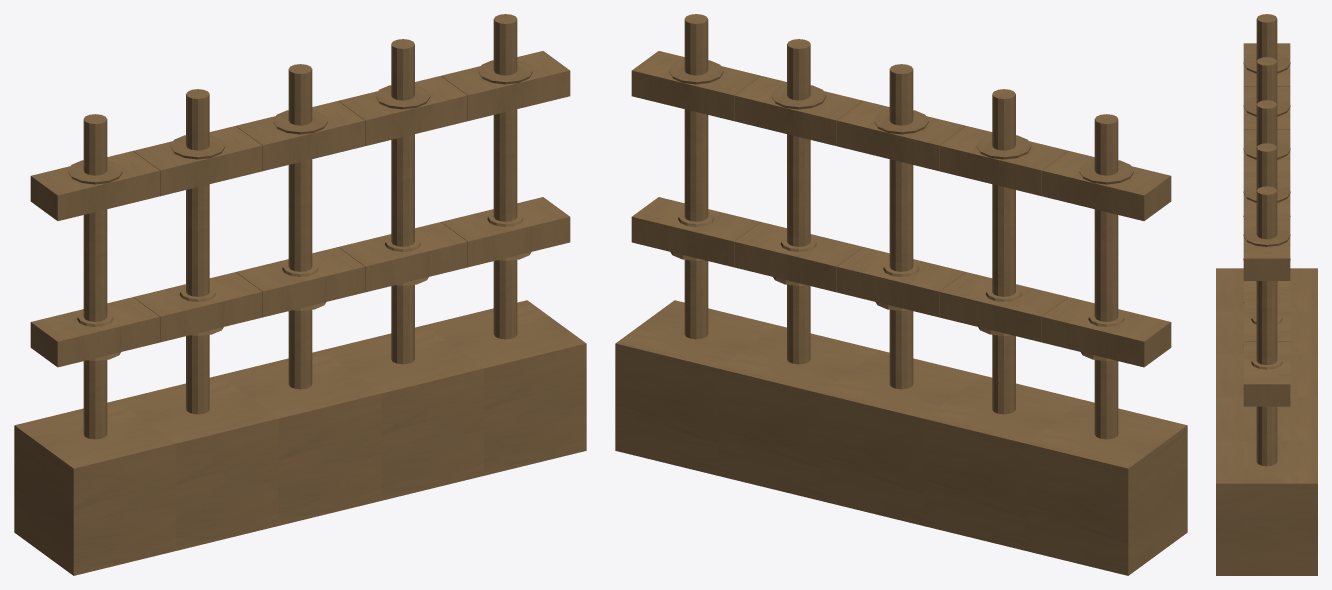
The model's file is Railingx5.glb.
3 renders of one model, left to right at view 1: azimuth 30°, elevation 25°; view 2: azimuth 150°, elevation 25°; view 3: azimuth 270°, elevation 25°, orthographic. The views are drawn at different scales.
Parts seen in each view (by area): view 1: Railingx5; view 2: Railingx5; view 3: Railingx5.
Part boxes in pixels (x1,y1,x2,y2): Railingx5: (14, 14, 586, 575); Railingx5: (615, 14, 1187, 575); Railingx5: (1216, 14, 1317, 575).
Bounding box in the file's own units: 10 × 7.88 × 2.
Materials: 1 (1 with a texture image).
